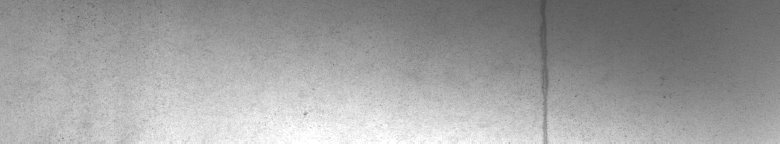hd: (536, 4, 552, 136)
